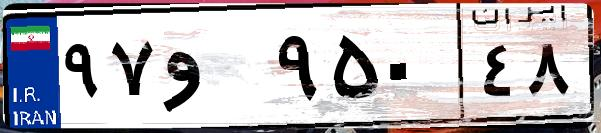0: (385, 28, 445, 110)
4: (475, 38, 525, 113)
5: (330, 28, 385, 110)
7: (110, 28, 158, 98)
8: (525, 38, 570, 115)
9: (270, 28, 330, 110), (57, 26, 110, 100)
و: (158, 20, 270, 120)
